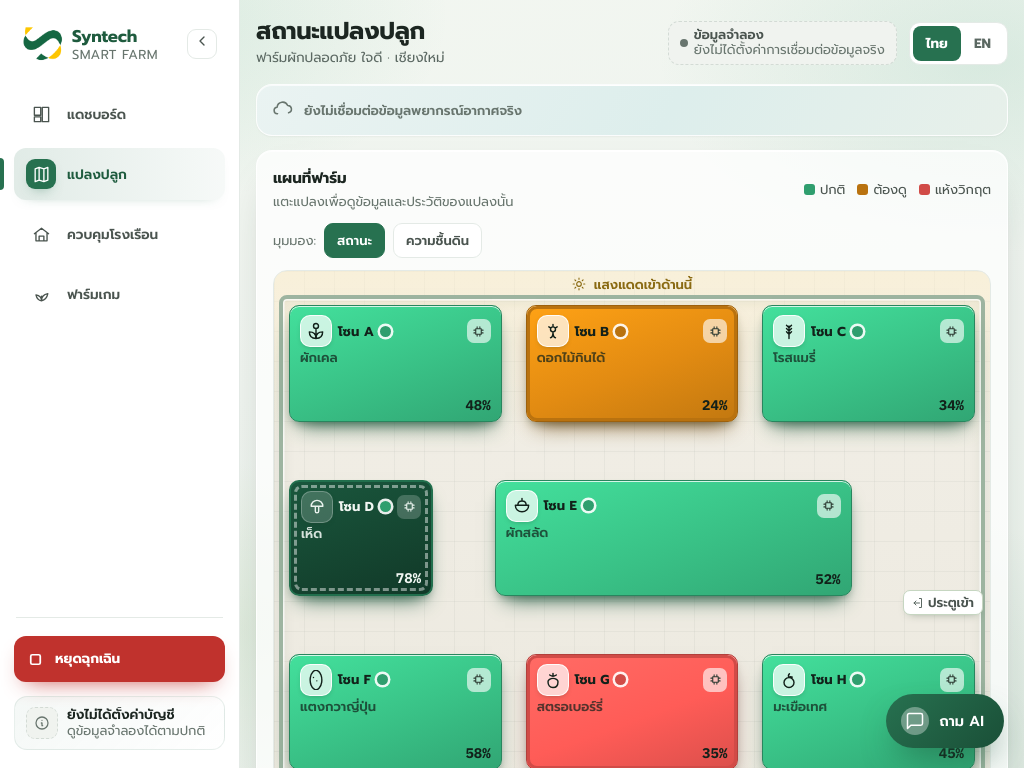
Test case: IrrigationPage › ลิ้นชักเหลือ 4 แท็บข้อมูล และสลับได้
Click the button "โซน A".
click(356, 331)  # box [338,322,374,341]
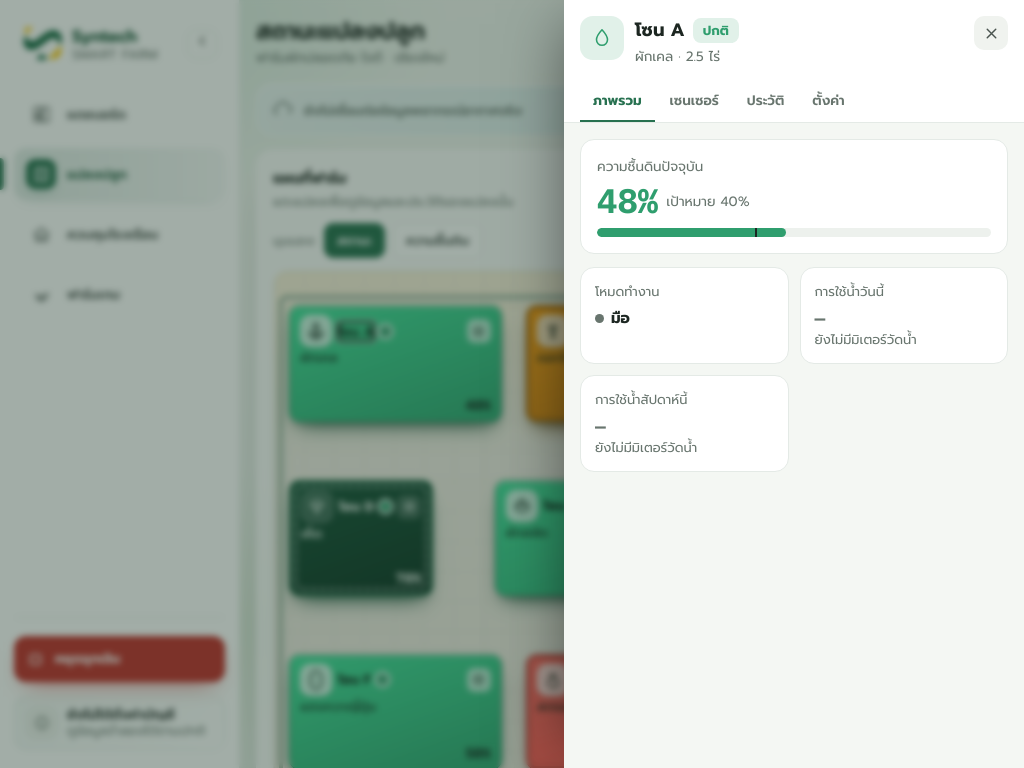
expect the number of tabs is 4: met
expect the text "ความชื้นดินปัจจุบัน" is shown: met, box [597,156,703,177]
Click the tab "เซนเซอร์".
click(694, 102)  # box [657,81,732,122]
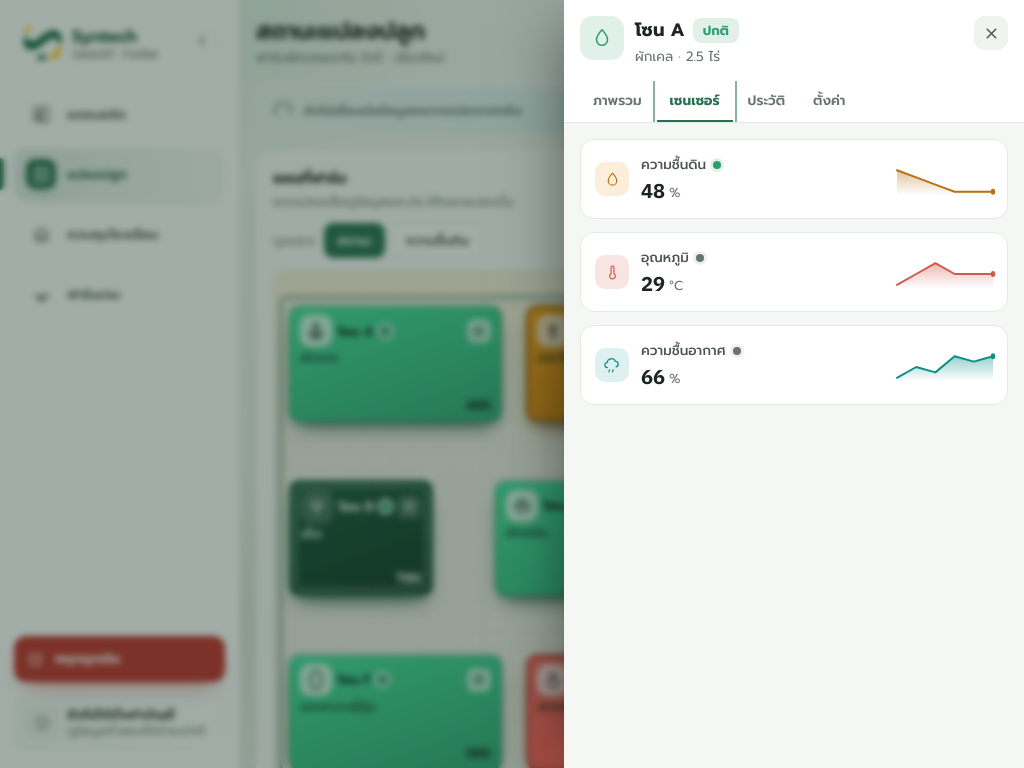
expect the text "ความชื้นดิน" is shown: met, box [641,154,706,175]
Click the tab "ประวัติ".
click(766, 102)  # box [735,81,798,122]
(page scrolled)
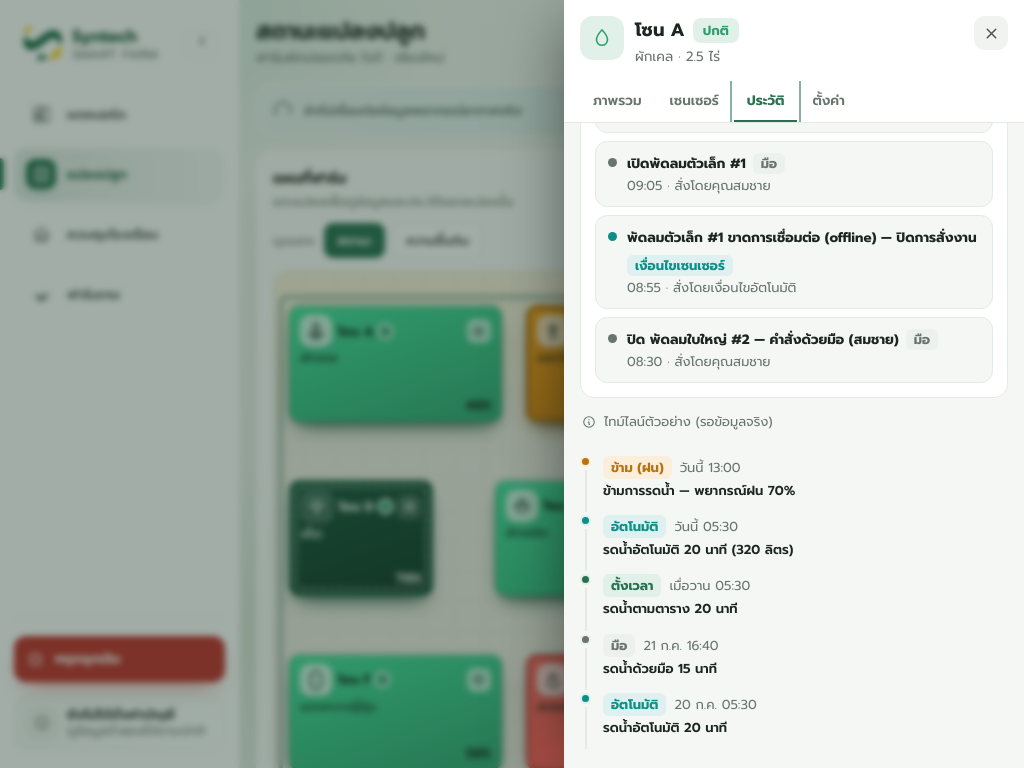
expect the text "ข้ามการรดน้ำ — พยากรณ์ฝน 70%" is shown: met, box [603,481,795,500]
